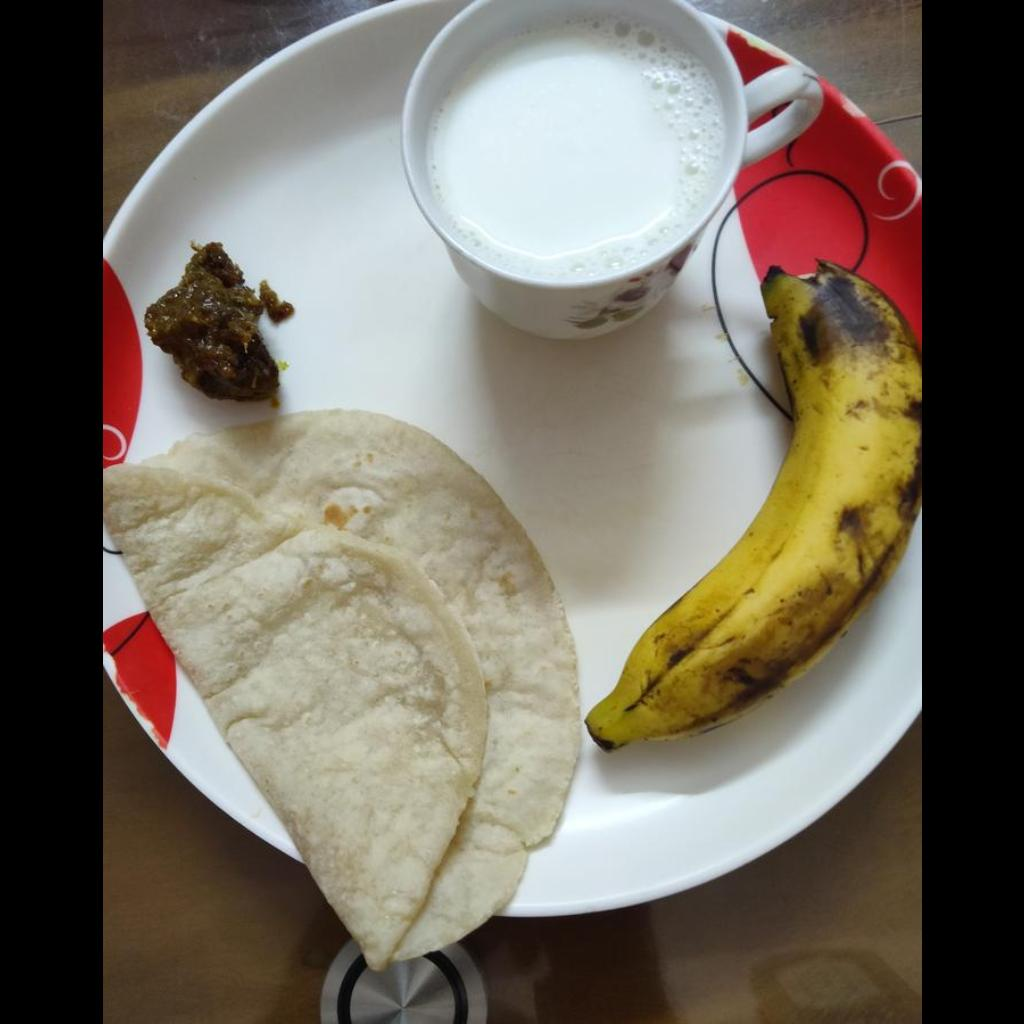banana: (584, 249, 920, 748)
milk: (423, 15, 728, 277)
ruti: (102, 405, 582, 971)
vorta: (146, 241, 279, 403)
